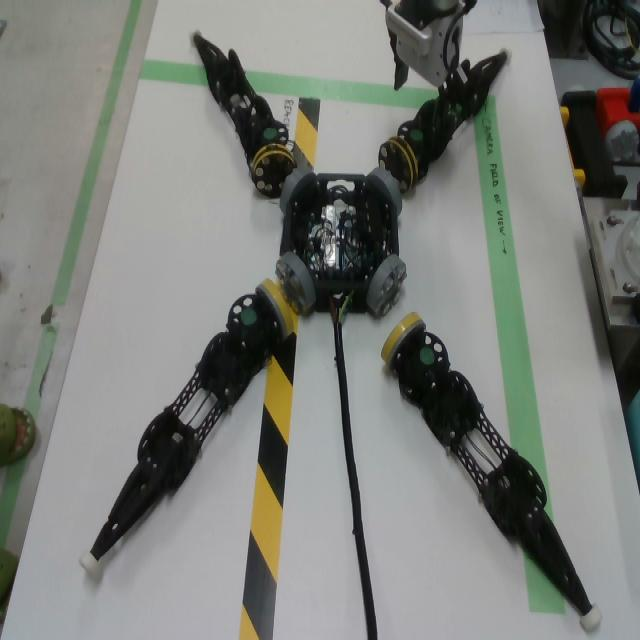body: (280, 173, 399, 313)
body_connector: (366, 255, 408, 319), (275, 252, 316, 316), (367, 167, 402, 217), (280, 168, 316, 215)
gripper: (390, 0, 477, 116)
leg: (380, 312, 603, 633), (91, 279, 295, 561), (377, 45, 512, 192), (189, 28, 296, 197)
leg_connector: (381, 312, 427, 372), (252, 144, 297, 199), (254, 279, 292, 341), (378, 137, 419, 193)
leg_marker: (241, 308, 257, 325), (419, 348, 434, 364), (410, 129, 423, 141), (264, 128, 277, 139)
